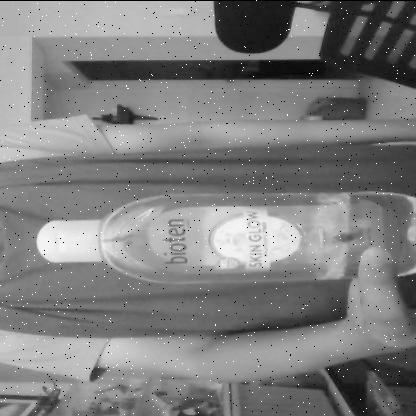Plastic Bottle: (31, 185, 416, 285)
